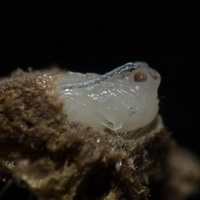insect: (0, 62, 199, 199)
